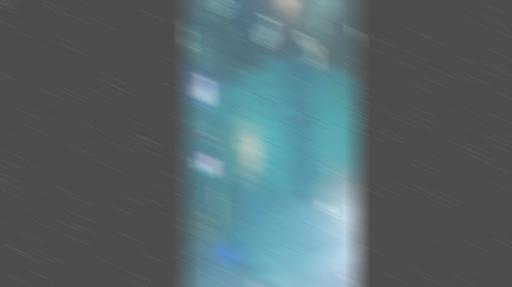Fish: (298, 32, 319, 65), (257, 17, 276, 46), (337, 178, 348, 201), (321, 181, 334, 200), (327, 159, 338, 178), (318, 200, 329, 215), (271, 208, 280, 225), (280, 202, 289, 218), (285, 100, 292, 115), (274, 223, 283, 234), (271, 124, 280, 133), (340, 267, 349, 276), (347, 278, 356, 286), (297, 193, 314, 197), (352, 29, 358, 40), (302, 209, 309, 218), (257, 213, 266, 220), (266, 99, 273, 108), (244, 105, 255, 110), (292, 119, 309, 122), (261, 94, 268, 101), (260, 202, 267, 209), (247, 96, 256, 101), (248, 115, 254, 122), (269, 112, 275, 119), (257, 204, 262, 211), (182, 281, 189, 286), (302, 198, 309, 203), (306, 281, 312, 286), (257, 94, 264, 97), (261, 111, 263, 116), (256, 109, 258, 114), (299, 205, 301, 209)
